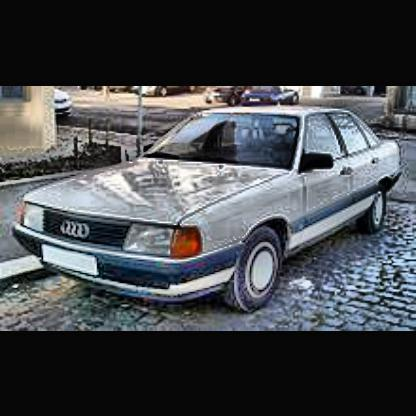Audi 100 Sedan 1994: (11, 94, 406, 315)
